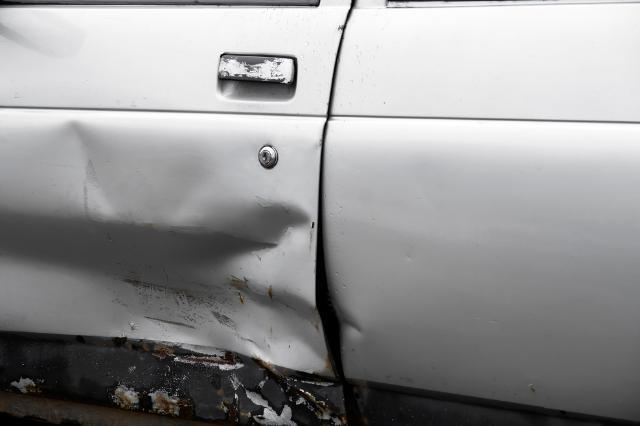Door: (6, 98, 333, 426)
